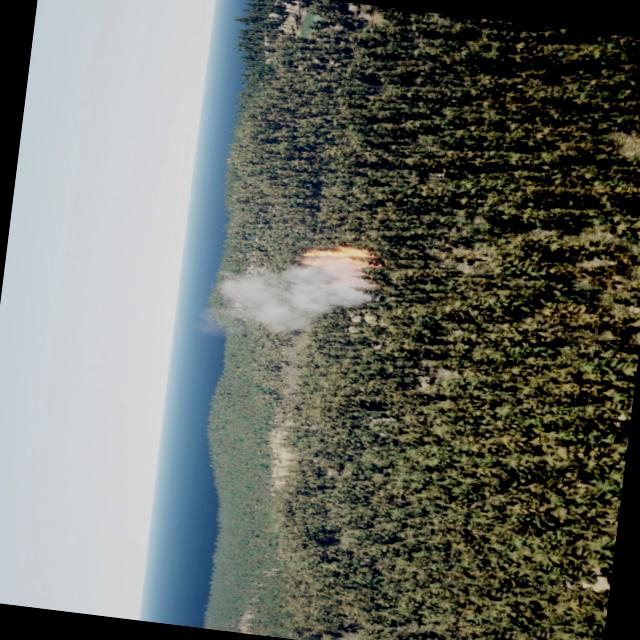fire: (298, 236, 370, 274)
smoke: (191, 244, 380, 353)
